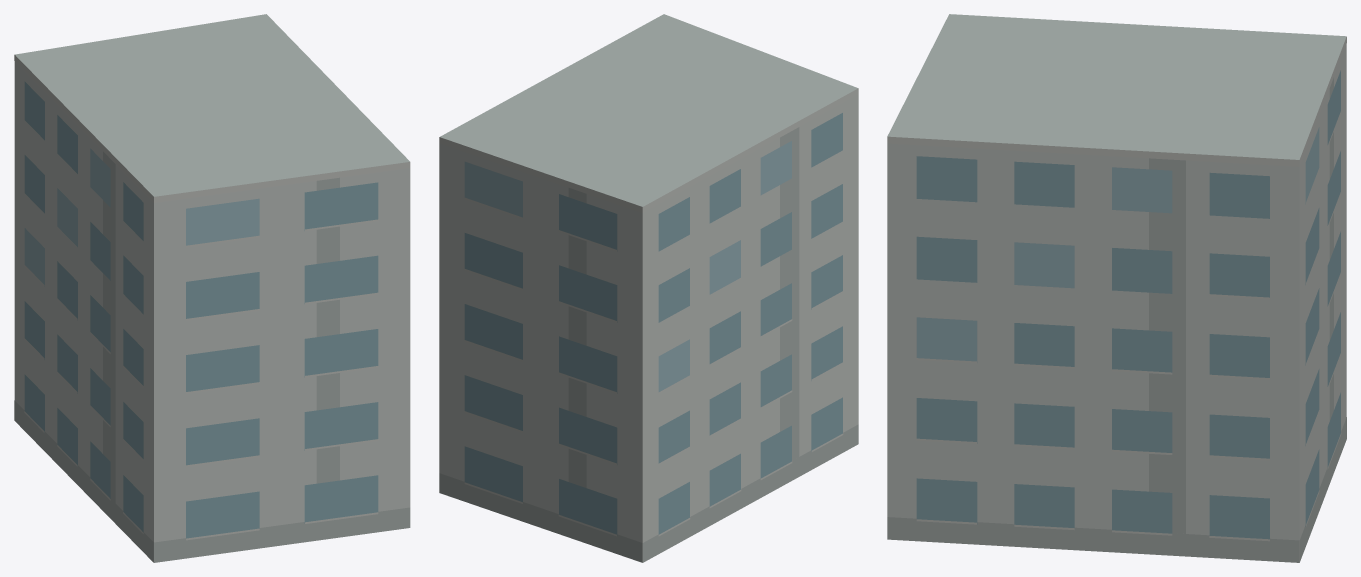
File: survey-upis-32983691.glb
3 views of the same model, side by side, from view 1: azimuth 30°, elevation 25°; view 2: azimuth 150°, elevation 25°; view 3: azimuth 270°, elevation 25° (orthographic). The views are drawn at different scales.
Visible parts, largest first — view 1: survey-upis-32983691.tmp; view 2: survey-upis-32983691.tmp; view 3: survey-upis-32983691.tmp.
Part boxes in pixels (box(x1,y1,x2,y2)): survey-upis-32983691.tmp: box(14, 14, 410, 562); survey-upis-32983691.tmp: box(439, 14, 858, 562); survey-upis-32983691.tmp: box(887, 14, 1346, 562).
Bounding box in the file's own units: 11.01 × 14.16 × 14.65.
